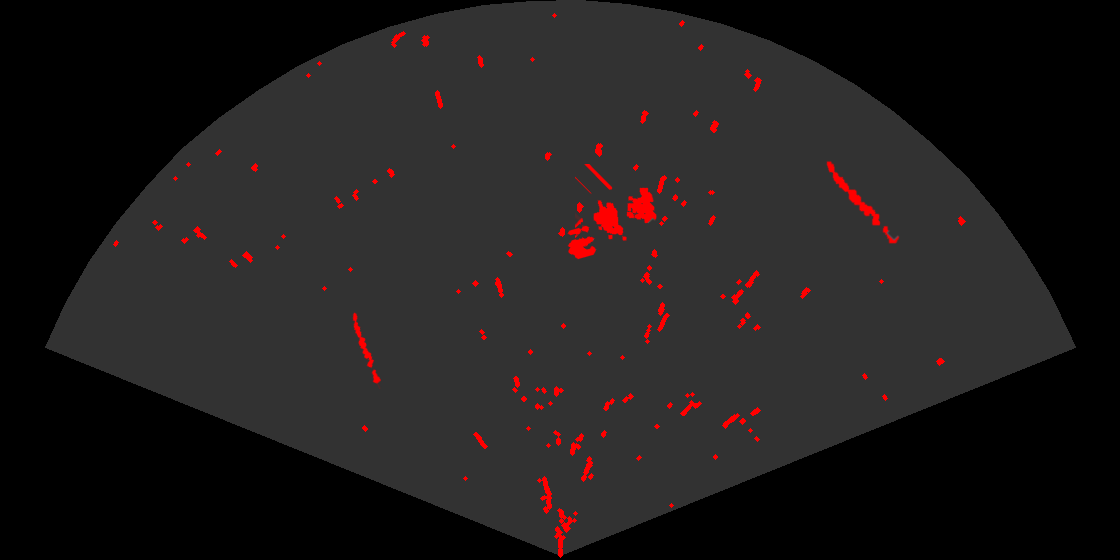ball: (566, 224, 597, 261)
cage: (575, 164, 658, 242)
chain: (825, 159, 901, 245), (351, 310, 383, 389)
